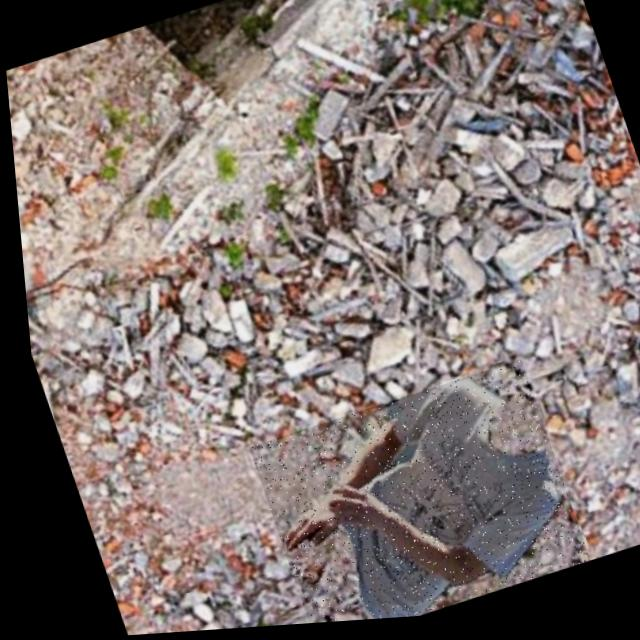Person in Rubble: (233, 363, 581, 629)
